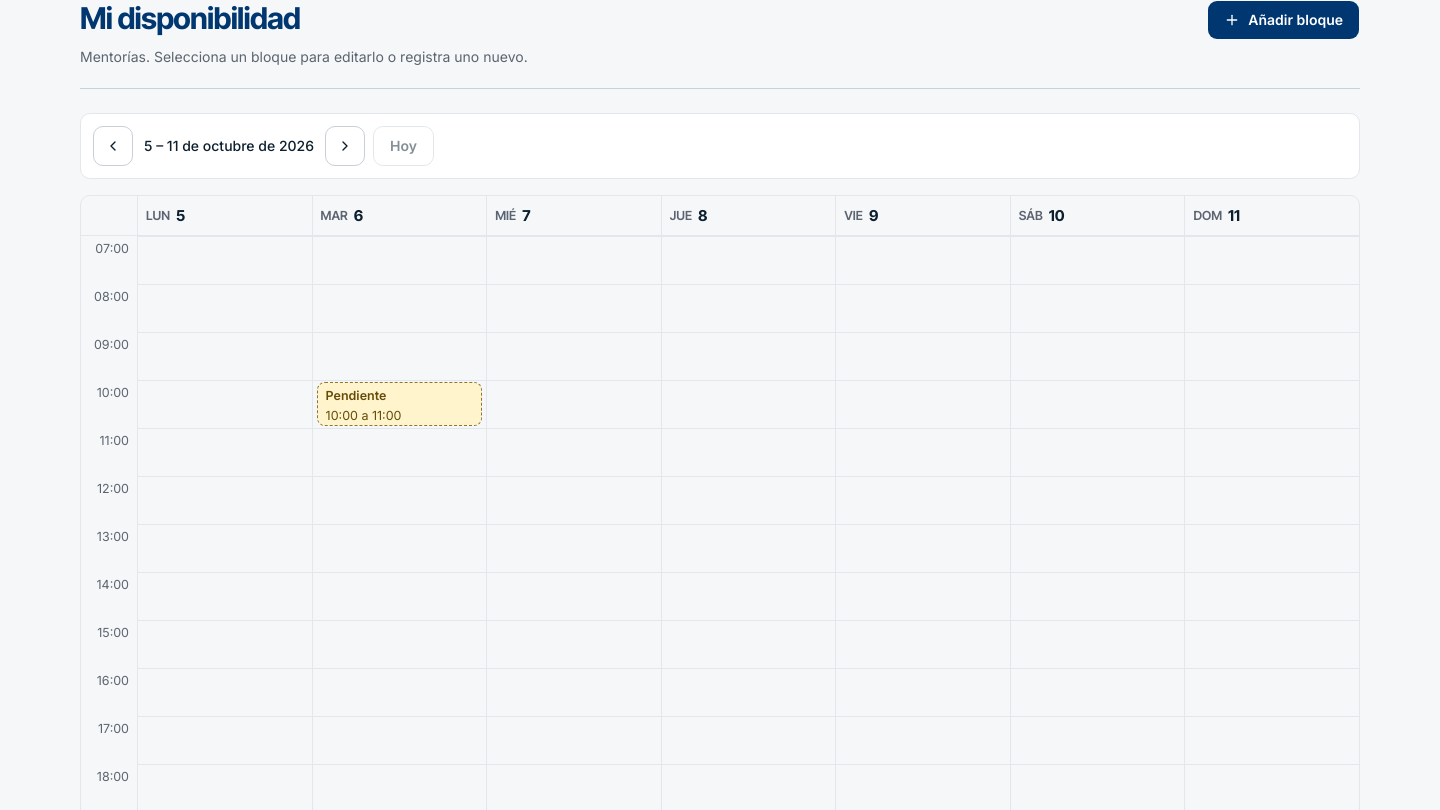
it: MentorAvailabilityView › al tocar un bloque con cita abre el panel con las acciones deshabilitadas y el aviso
Click the button with aria-label "pendiente, 10:00 a 11:00".
click(399, 404)  # box [317,382,482,426]
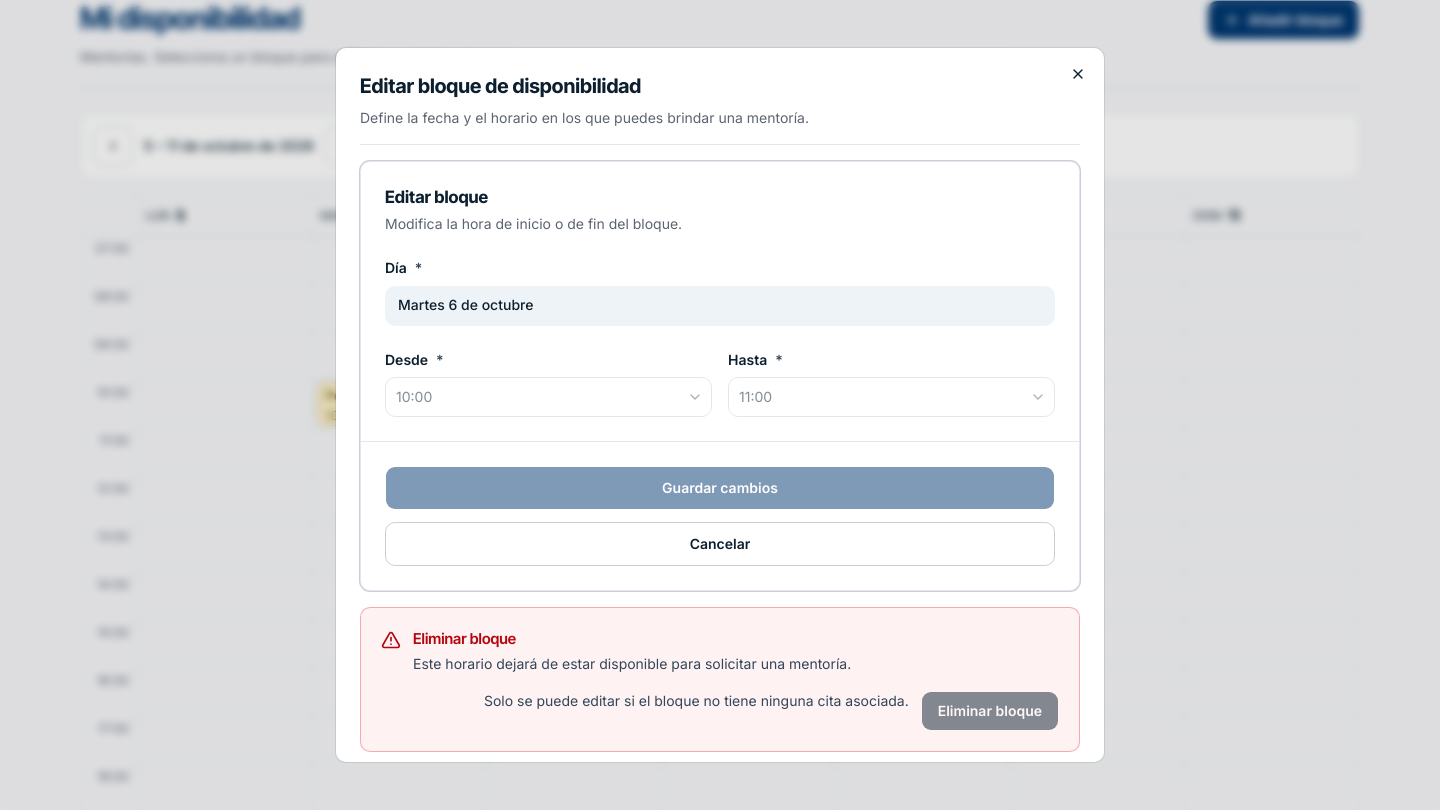
Expected: the text "Editar bloque" is shown, [385,187,488,207]
Expected: the button "Guardar cambios" is disabled, [385,466,1055,510]
Expected: the button "Eliminar bloque" is disabled, [921,691,1059,731]
